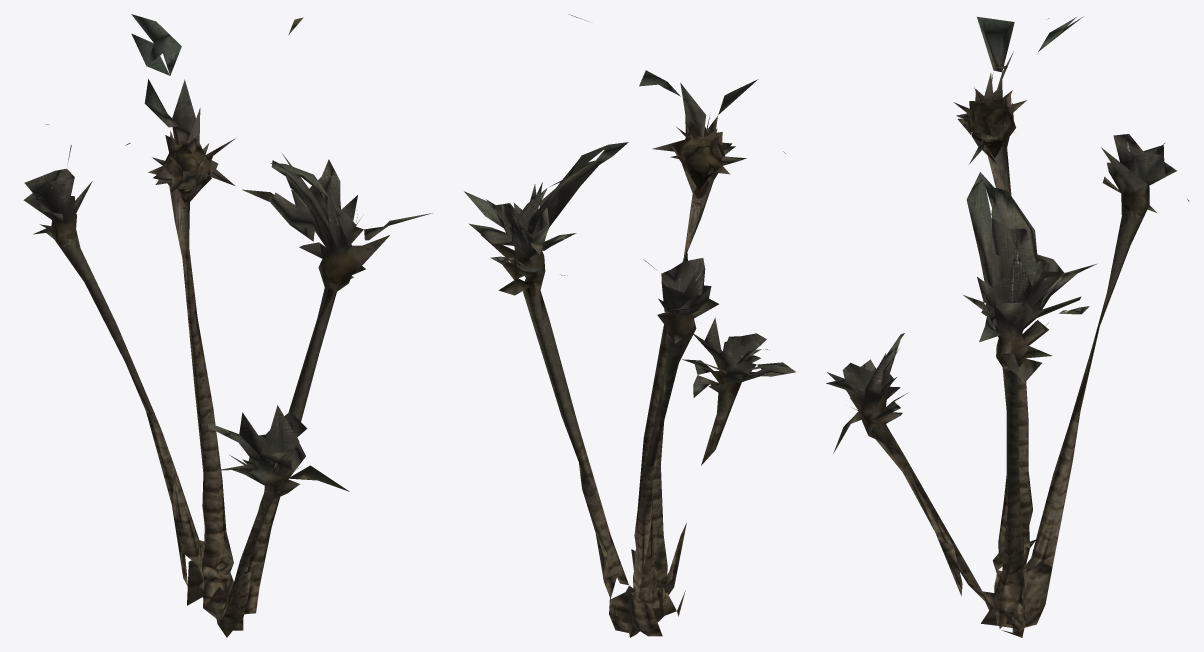
Rendered from desert-tree-2.glb.
The picture shows the model from 3 angles, left to right: view 1: azimuth 30°, elevation 25°; view 2: azimuth 150°, elevation 25°; view 3: azimuth 270°, elevation 25°; orthographic projection.
Visible parts, largest first — view 1: geometry_0; view 2: geometry_0; view 3: geometry_0.
Boxes of the visible parts, bbox=[...] form: geometry_0: bbox=[23, 14, 432, 637]; geometry_0: bbox=[464, 14, 795, 637]; geometry_0: bbox=[826, 16, 1189, 637].
Bounding box in the file's own units: 0.5635 × 0.8989 × 0.4975.
Materials: 1 (1 with a texture image).
